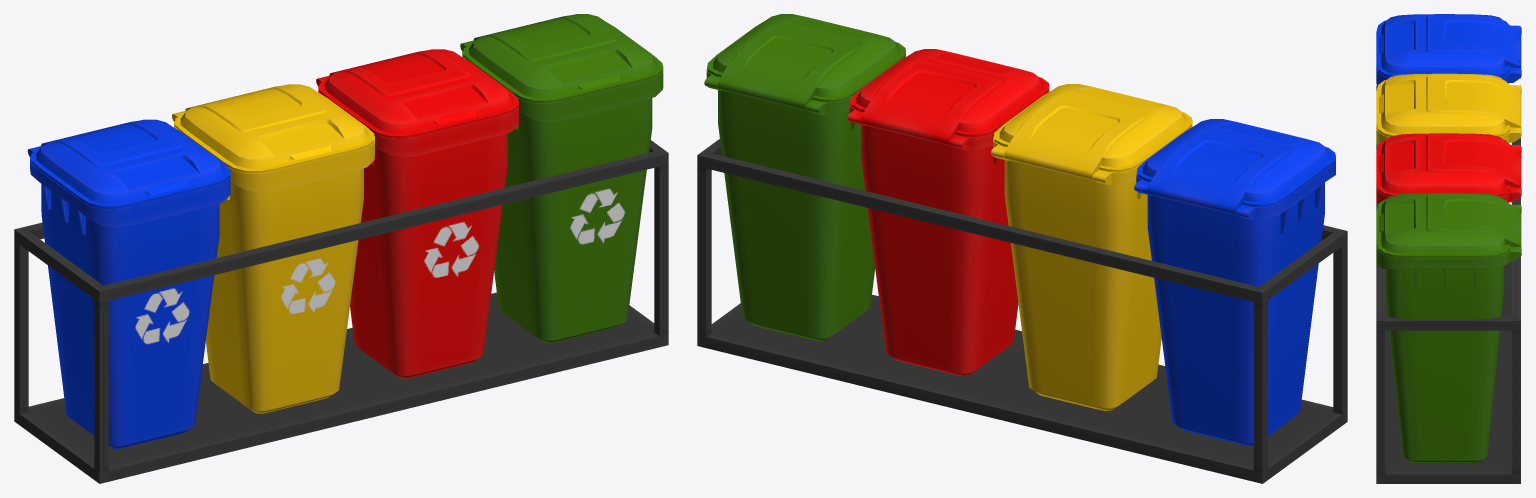
The model's file is Dustbin.fbx.
3 views of the same model, side by side, from view 1: azimuth 30°, elevation 25°; view 2: azimuth 150°, elevation 25°; view 3: azimuth 270°, elevation 25° (orthographic). The views are drawn at different scales.
Parts seen in each view (by area): view 1: Dustbin1; view 2: Dustbin1; view 3: Dustbin1.
Boxes of the visible parts, x1=… form: Dustbin1: x1=14, y1=14, x2=668, y2=483; Dustbin1: x1=697, y1=14, x2=1347, y2=483; Dustbin1: x1=1376, y1=14, x2=1521, y2=483.
Size of the model in its own units: 192 by 92.03 by 49.49.
1 material, 1 textured.
